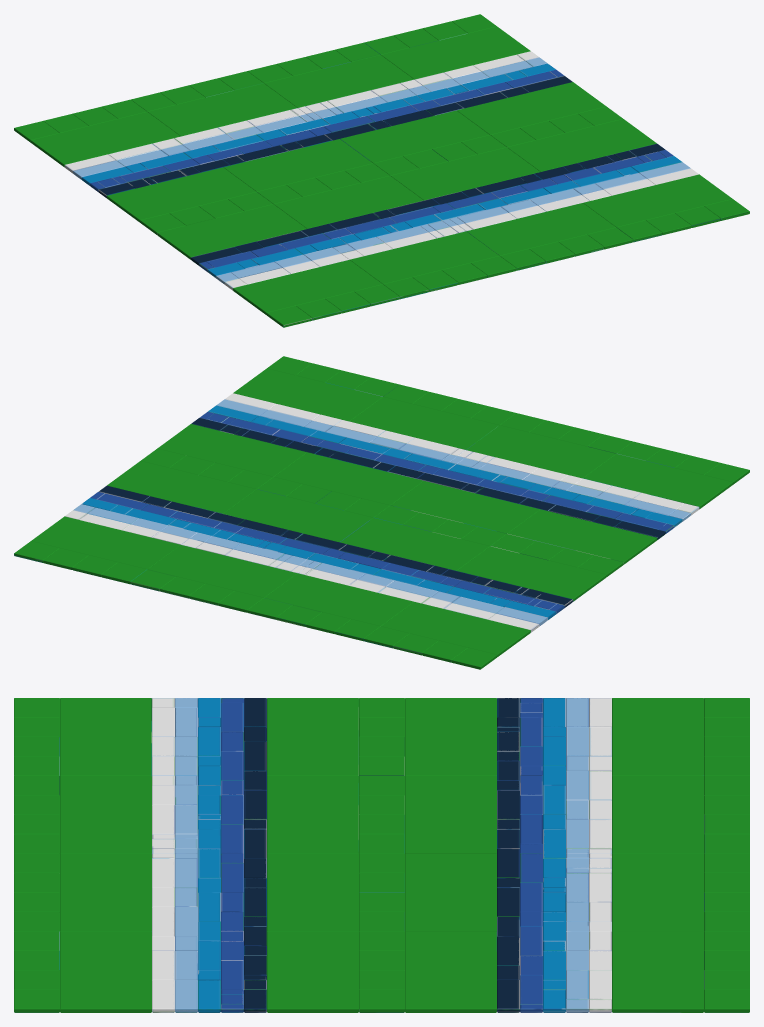
File: Floor.fbx
The picture shows the model from 3 angles, top to bottom: view 1: azimuth 30°, elevation 25°; view 2: azimuth 150°, elevation 25°; view 3: azimuth 270°, elevation 25°; orthographic projection. The views are drawn at different scales.
Parts seen in each view (by area): view 1: Target; view 2: Target; view 3: Target.
Part boxes in pixels (bbox=[...]): Target: bbox=[14, 14, 749, 327]; Target: bbox=[14, 356, 749, 669]; Target: bbox=[14, 698, 749, 1012].
Size of the model in its own units: 51192 by 316 by 51192.
Materials: 1 (1 with a texture image).
